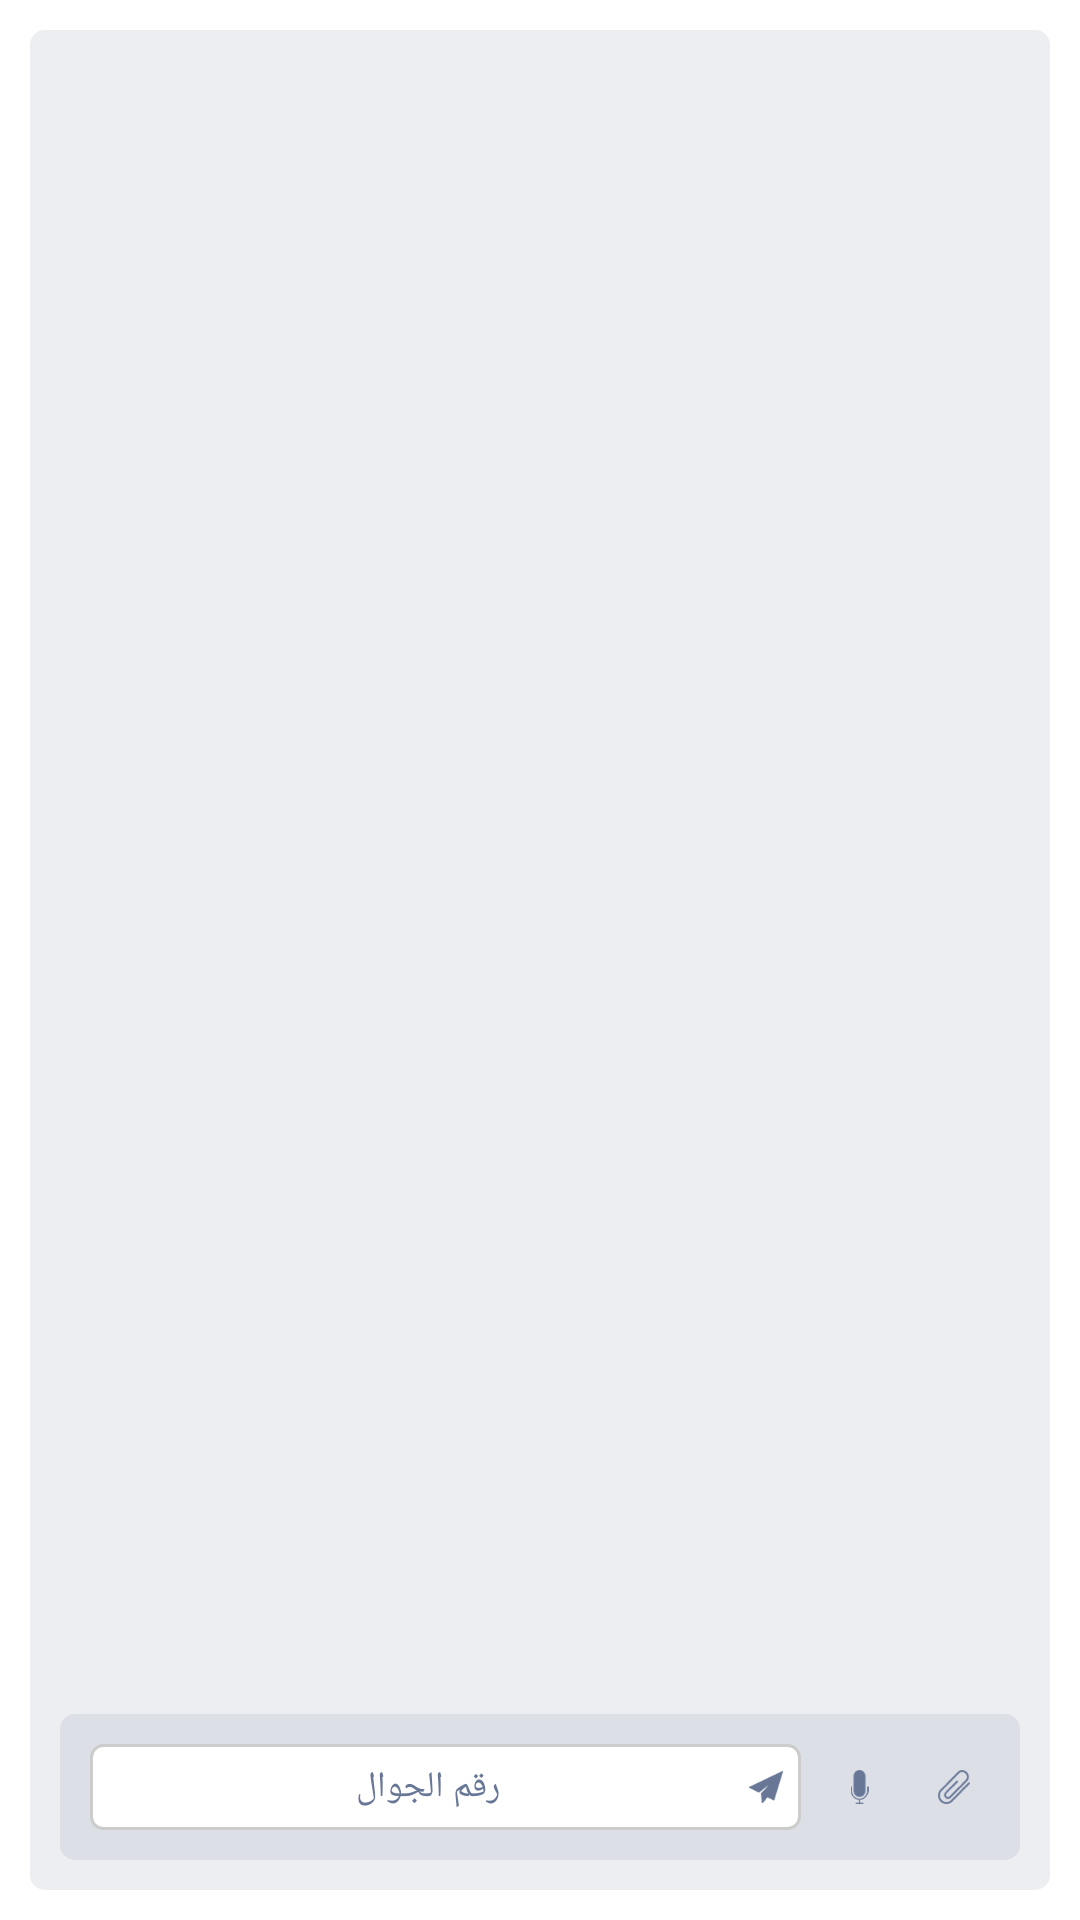

Icon bounding boxes for this 1080w x 1920h phone screenshot, format (x1, y1, x2, y2):
attachment: (938, 1770, 970, 1804)
microphone: (851, 1770, 869, 1804)
